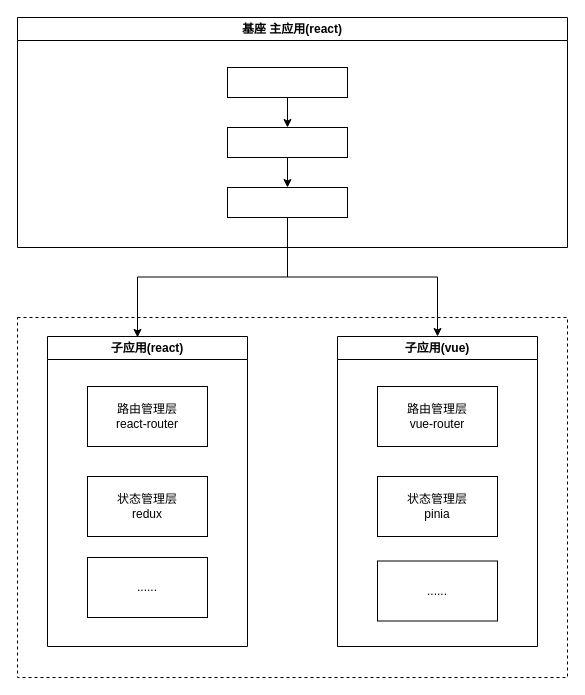
This 585x695 diagram has some shape labels left out. Here are the shapes that lost their labels. From the top down, the centre of each, then its label:
point 287,82: 子应用注册
point 287,142: 路由导航
point 287,202: 应用管理
